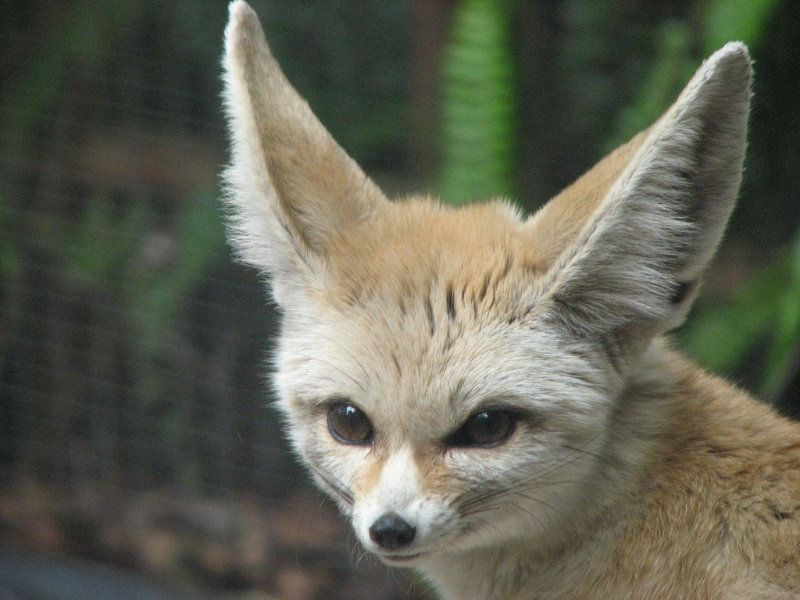fox: (213, 11, 800, 597)
